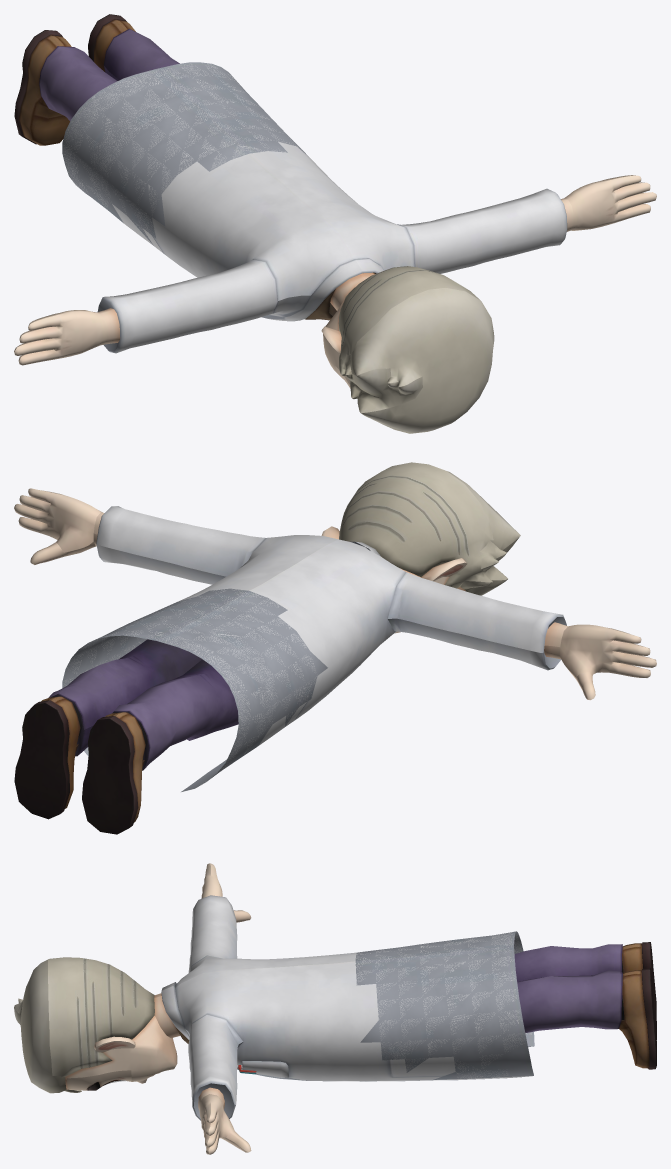
Rendered from professor_oak.glb.
3 renders of one model, top to bottom at view 1: azimuth 30°, elevation 25°; view 2: azimuth 150°, elevation 25°; view 3: azimuth 270°, elevation 25°, orthographic. The views are drawn at different scales.
Visible parts, largest first — view 1: GLTF_created_0; view 2: GLTF_created_0; view 3: GLTF_created_0.
Part boxes in pixels (left/top/right/bottom): GLTF_created_0: left=14, top=14, right=656, bottom=433; GLTF_created_0: left=14, top=462, right=656, bottom=834; GLTF_created_0: left=14, top=863, right=656, bottom=1154.
Size of the model in its own units: 1.9 by 0.4766 by 1.93.
4 materials, 4 textured.
